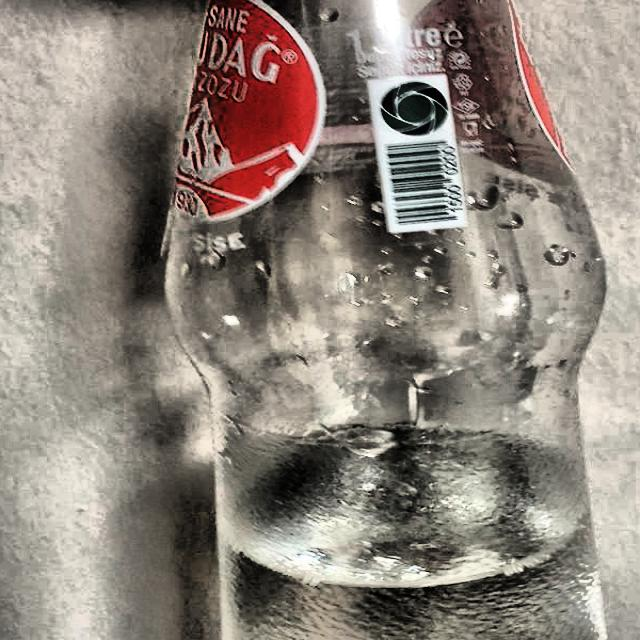plastic: (153, 0, 620, 640)
